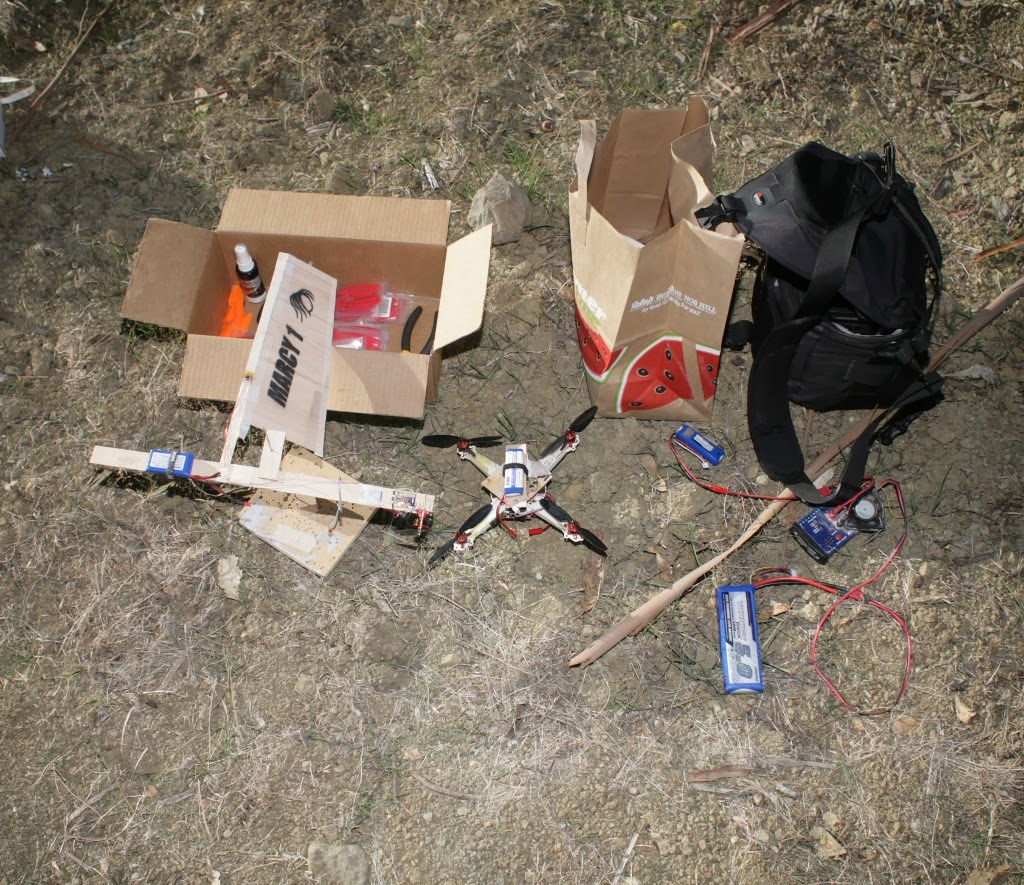drone: (417, 400, 613, 575)
